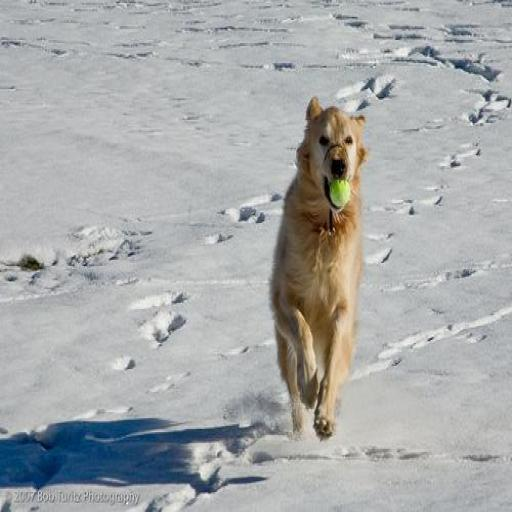dog_face: (290, 94, 368, 192)
